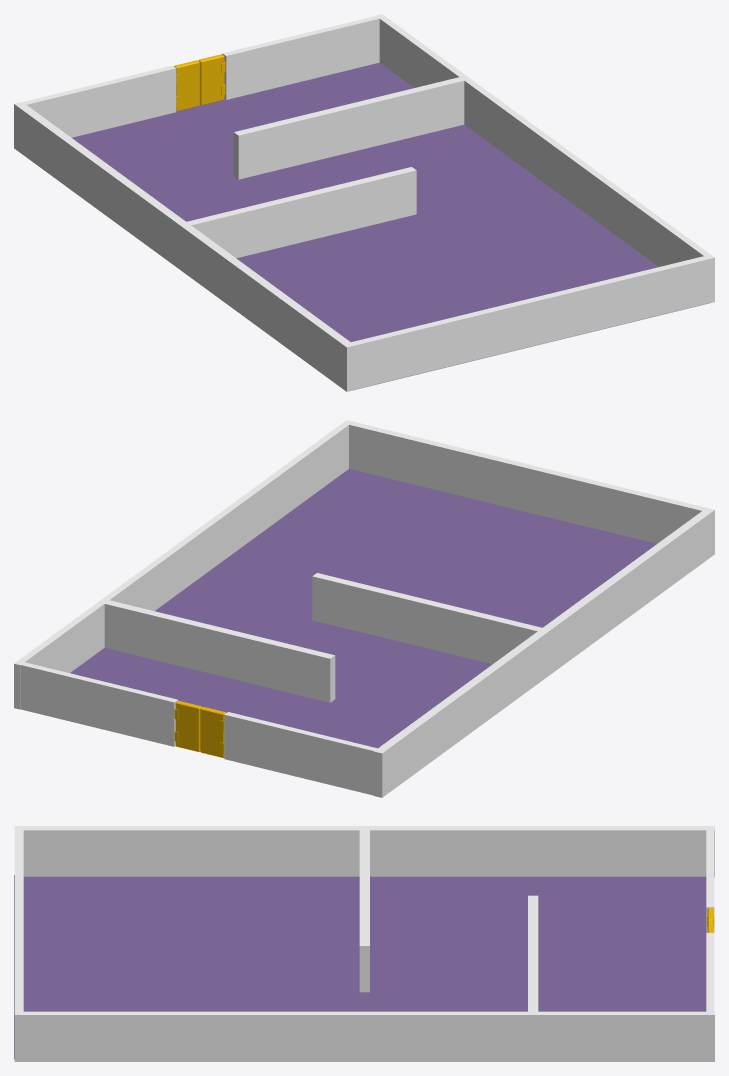
The model's file is maps_85.fbx.
The picture shows the model from 3 angles, top to bottom: view 1: azimuth 30°, elevation 25°; view 2: azimuth 150°, elevation 25°; view 3: azimuth 270°, elevation 25°; orthographic projection. The views are drawn at different scales.
Visible parts, largest first — view 1: wall_01_08_geo, wall_01_07_geo, wall_01_05_geo, wall_01_06_geo, wall_01_07_geo2, wall_01_07_geo1, wall_01_09_geo1, wall_01_09_geo, polySurface161, polySurface165; view 2: wall_01_08_geo, wall_01_07_geo, wall_01_05_geo, wall_01_06_geo, wall_01_07_geo2, wall_01_07_geo1, wall_01_09_geo1, wall_01_09_geo, polySurface161, polySurface165; view 3: wall_01_08_geo, wall_01_06_geo, wall_01_07_geo, wall_01_05_geo, wall_01_07_geo1, wall_01_07_geo2, wall_01_09_geo, wall_01_09_geo1.
Boxes of the visible parts, x1=… form: wall_01_08_geo: x1=72, y1=62, x2=710, y2=390; wall_01_07_geo: x1=14, y1=102, x2=354, y2=391; wall_01_05_geo: x1=351, y1=256, x2=708, y2=389; wall_01_06_geo: x1=376, y1=14, x2=714, y2=303; wall_01_07_geo2: x1=233, y1=77, x2=464, y2=179; wall_01_07_geo1: x1=186, y1=167, x2=416, y2=258; wall_01_09_geo1: x1=222, y1=16, x2=379, y2=99; wall_01_09_geo: x1=23, y1=65, x2=176, y2=137; polySurface161: x1=198, y1=54, x2=225, y2=105; polySurface165: x1=174, y1=60, x2=199, y2=111; wall_01_08_geo: x1=70, y1=469, x2=656, y2=748; wall_01_07_geo: x1=373, y1=508, x2=714, y2=797; wall_01_05_geo: x1=349, y1=421, x2=706, y2=543; wall_01_06_geo: x1=14, y1=420, x2=352, y2=709; wall_01_07_geo2: x1=104, y1=600, x2=335, y2=702; wall_01_07_geo1: x1=312, y1=573, x2=542, y2=664; wall_01_09_geo1: x1=21, y1=662, x2=178, y2=746; wall_01_09_geo: x1=224, y1=712, x2=377, y2=795; polySurface161: x1=174, y1=700, x2=201, y2=751; polySurface165: x1=200, y1=706, x2=225, y2=758; wall_01_08_geo: x1=14, y1=875, x2=706, y2=1059; wall_01_06_geo: x1=14, y1=1011, x2=714, y2=1061; wall_01_07_geo: x1=14, y1=826, x2=714, y2=877; wall_01_05_geo: x1=14, y1=830, x2=23, y2=1011; wall_01_07_geo1: x1=359, y1=830, x2=369, y2=992; wall_01_07_geo2: x1=528, y1=895, x2=538, y2=1011; wall_01_09_geo: x1=706, y1=830, x2=714, y2=932; wall_01_09_geo1: x1=706, y1=933, x2=714, y2=1011.
Size of the model in its own units: 76.85 by 8.89 by 120.
2 materials, 2 textured.
